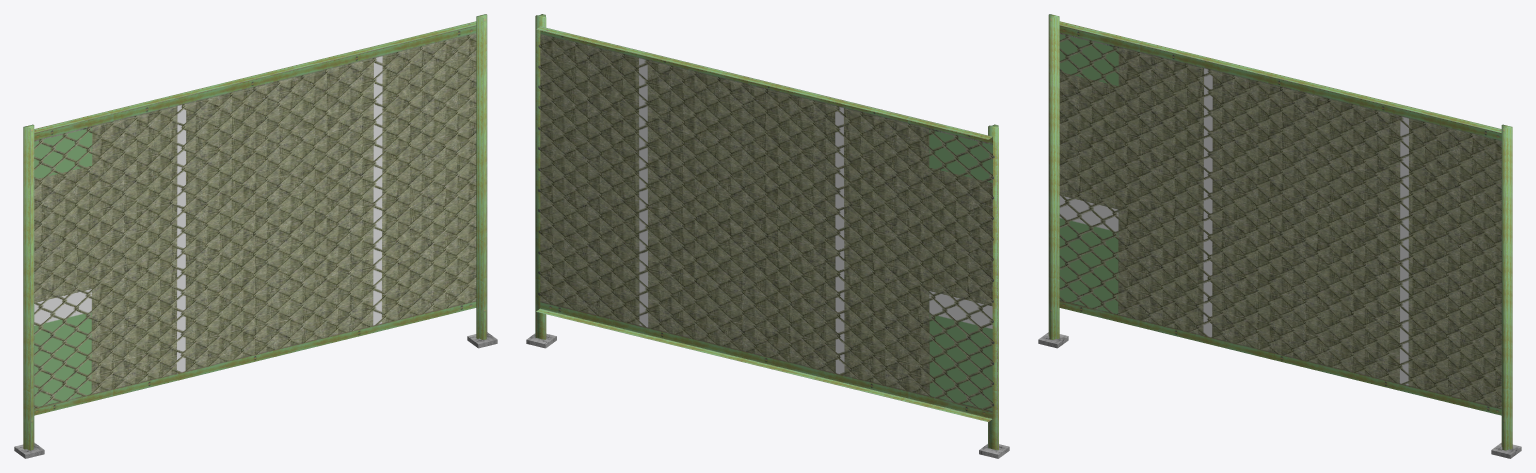
File: kanaami_both.fbx
The picture shows the model from 3 angles, left to right: view 1: azimuth 30°, elevation 25°; view 2: azimuth 150°, elevation 25°; view 3: azimuth 330°, elevation 25°; orthographic projection.
Parts seen in each view (by area): view 1: kanaami_f; view 2: kanaami_f; view 3: kanaami_f.
Boxes of the visible parts, box(x1,y1,x2,y2) form: kanaami_f: box(14, 14, 497, 458); kanaami_f: box(526, 14, 1009, 458); kanaami_f: box(1038, 14, 1521, 458).
Size of the model in its own units: 228 by 150 by 9.38.
